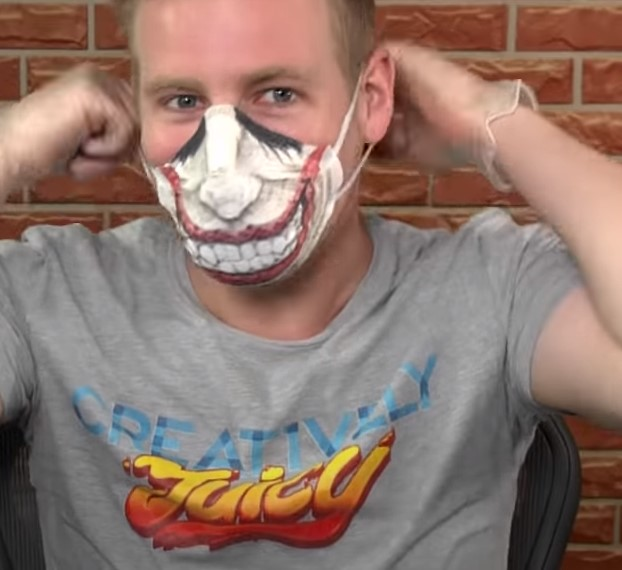face_with_mask: (108, 3, 402, 295)
